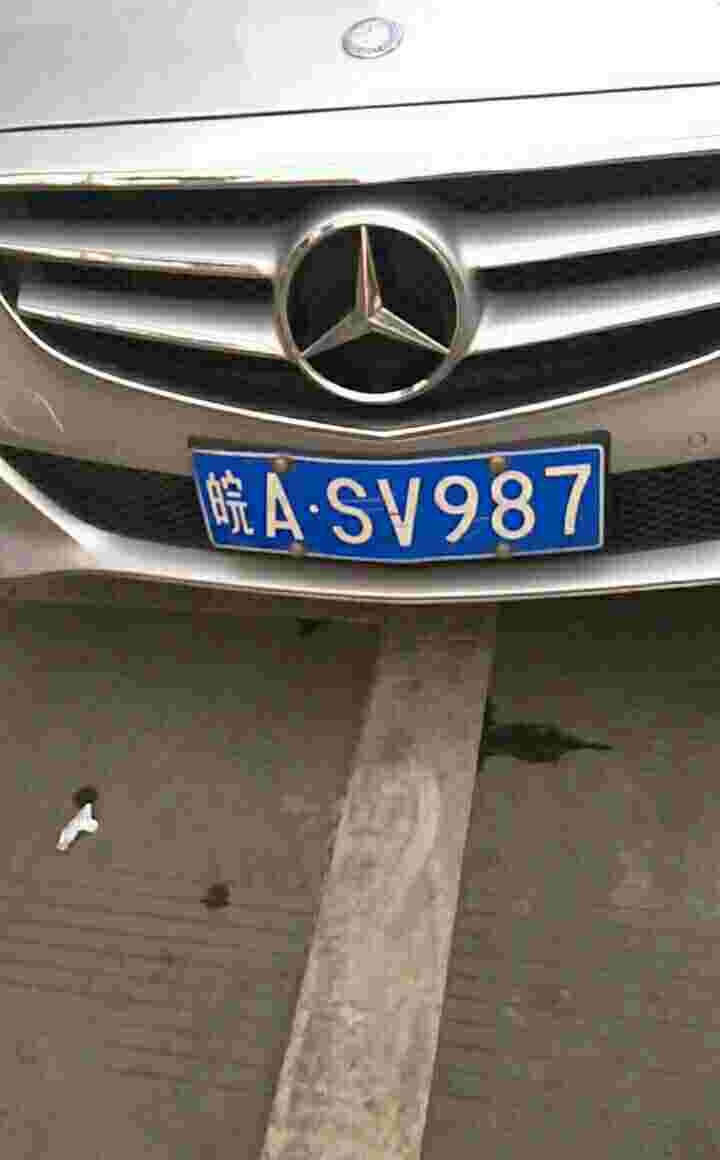car_blue: (188, 434, 617, 558)
